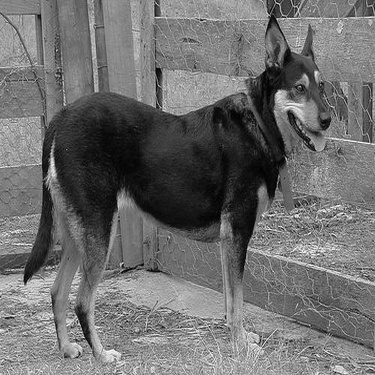dog: (12, 13, 339, 366)
